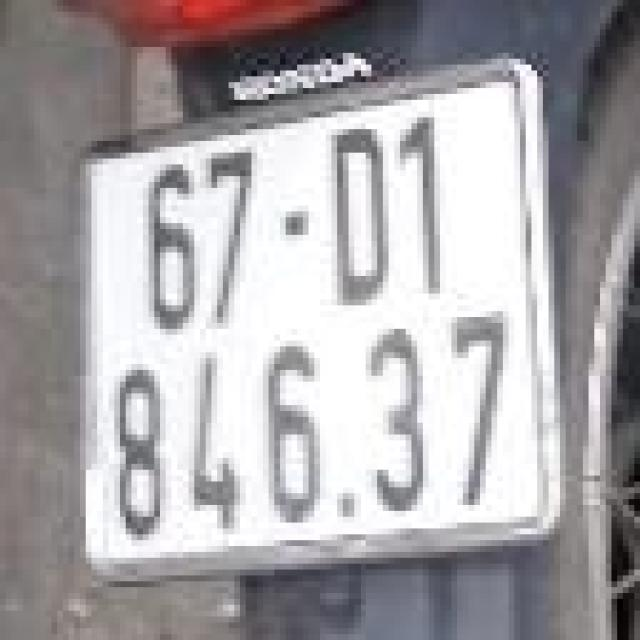1: (394, 106, 457, 300)
3: (357, 323, 437, 511)
4: (189, 346, 257, 534)
6: (266, 338, 334, 526), (134, 162, 203, 338)
7: (440, 308, 520, 514), (197, 150, 272, 332)
8: (106, 355, 174, 543)
D: (320, 120, 394, 308)
